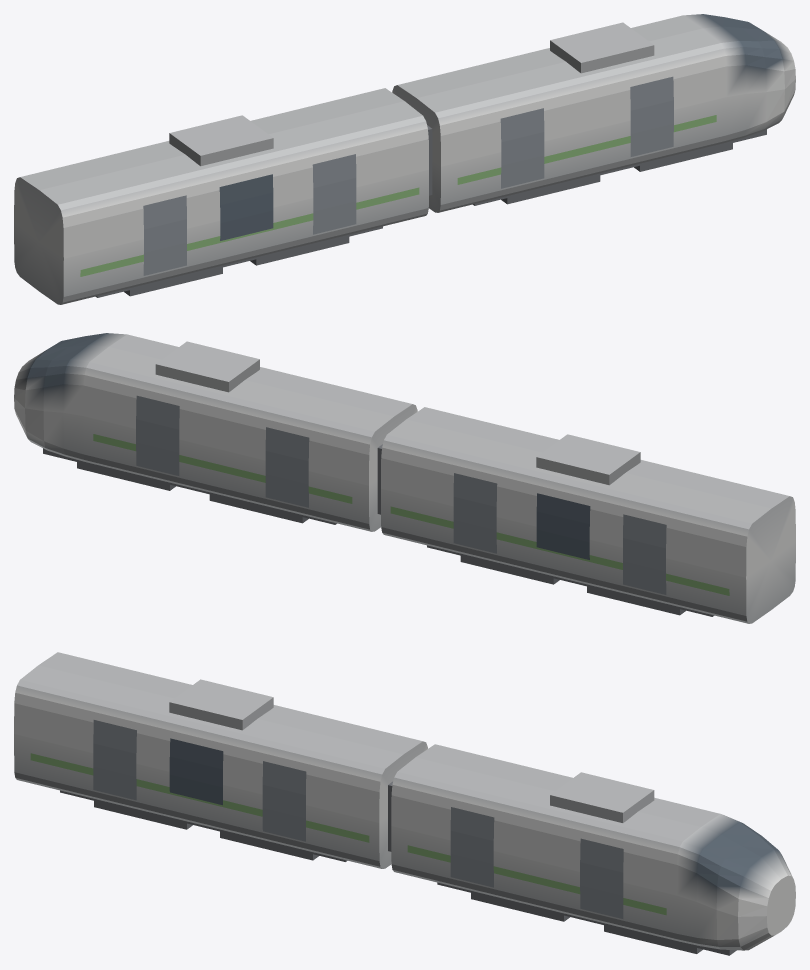
Rendered from 06_more_transit_3x2-03.glb.
3 renders of one model, top to bottom at view 1: azimuth 30°, elevation 25°; view 2: azimuth 150°, elevation 25°; view 3: azimuth 330°, elevation 25°, orthographic.
Size of the model in its own units: 22.36 by 3.48 by 2.64.
